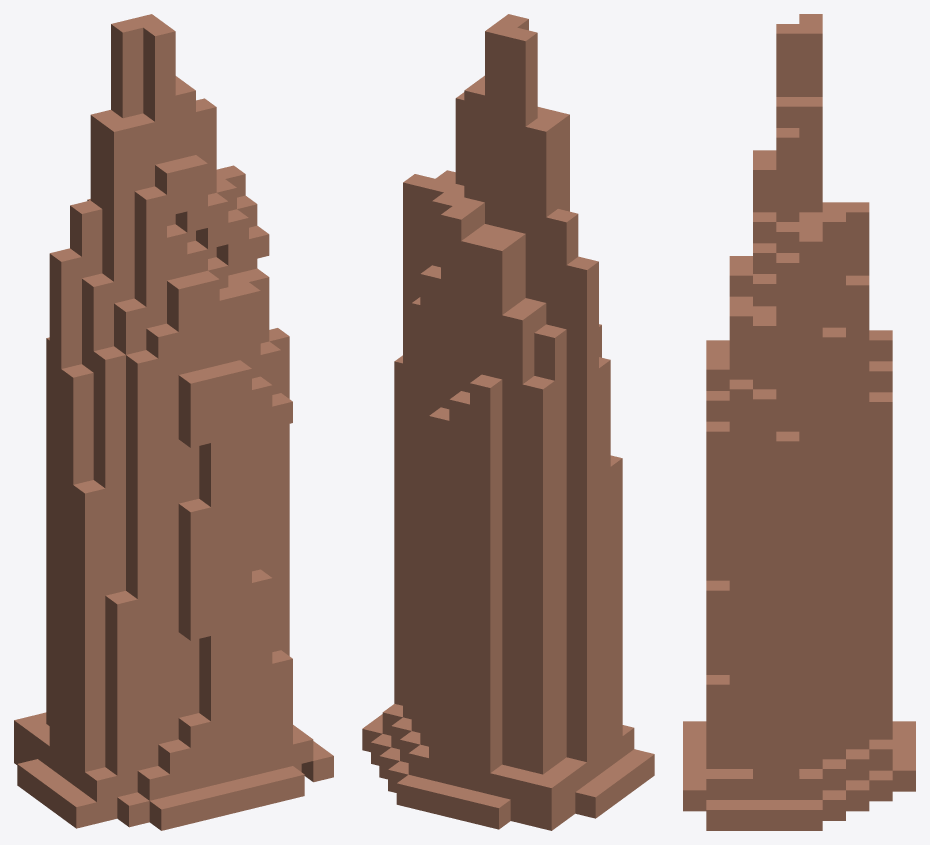
The model's file is Arbol_okay.fbx.
The picture shows the model from 3 angles, left to right: view 1: azimuth 30°, elevation 25°; view 2: azimuth 150°, elevation 25°; view 3: azimuth 270°, elevation 25°; orthographic projection.
Visible parts, largest first — view 1: arblo_okay_12x35x10; view 2: arblo_okay_12x35x10; view 3: arblo_okay_12x35x10.
Part boxes in pixels (box(x1,y1,x2,y2)): arblo_okay_12x35x10: box(14, 14, 333, 830); arblo_okay_12x35x10: box(362, 14, 654, 830); arblo_okay_12x35x10: box(683, 14, 915, 830).
Size of the model in its own units: 353 by 1029 by 294.
